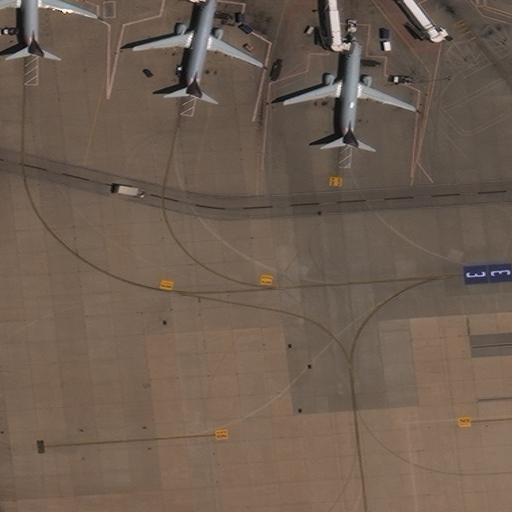Medium Civil Transport: (284, 36, 415, 149), (133, 0, 262, 98), (0, 0, 96, 57)
